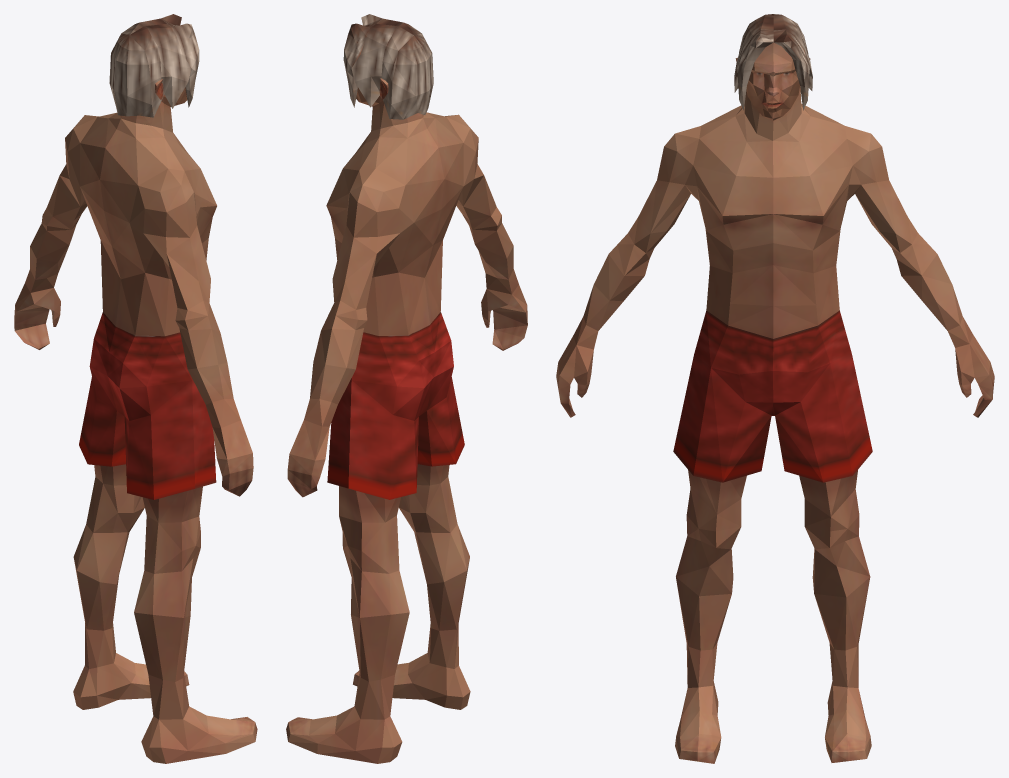
Rendered from wmylg.obj.
3 renders of one model, left to right at view 1: azimuth 30°, elevation 25°; view 2: azimuth 150°, elevation 25°; view 3: azimuth 270°, elevation 25°, orthographic.
Visible parts, largest first — view 1: _Pelvis; view 2: _Pelvis; view 3: _Pelvis.
Part boxes in pixels (x1,y1,x2,y2): _Pelvis: (14,14,257,763); _Pelvis: (286,14,527,763); _Pelvis: (556,14,994,763).
Bounding box in the file's own units: 0.3326 × 1.84 × 1.02.
Materials: 1 (1 with a texture image).
